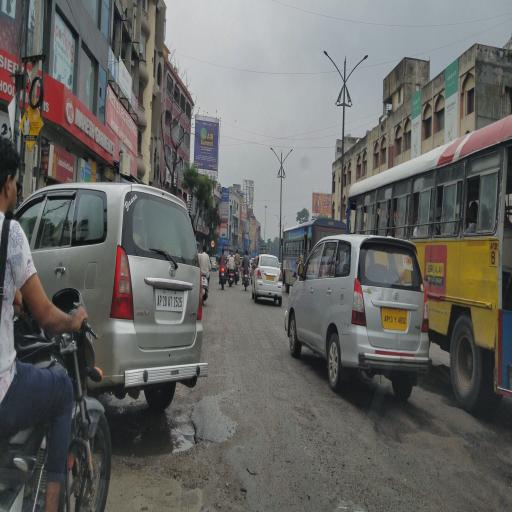street_light_0: (348, 45, 372, 109), (322, 44, 344, 108), (280, 142, 298, 174), (260, 142, 278, 172)
